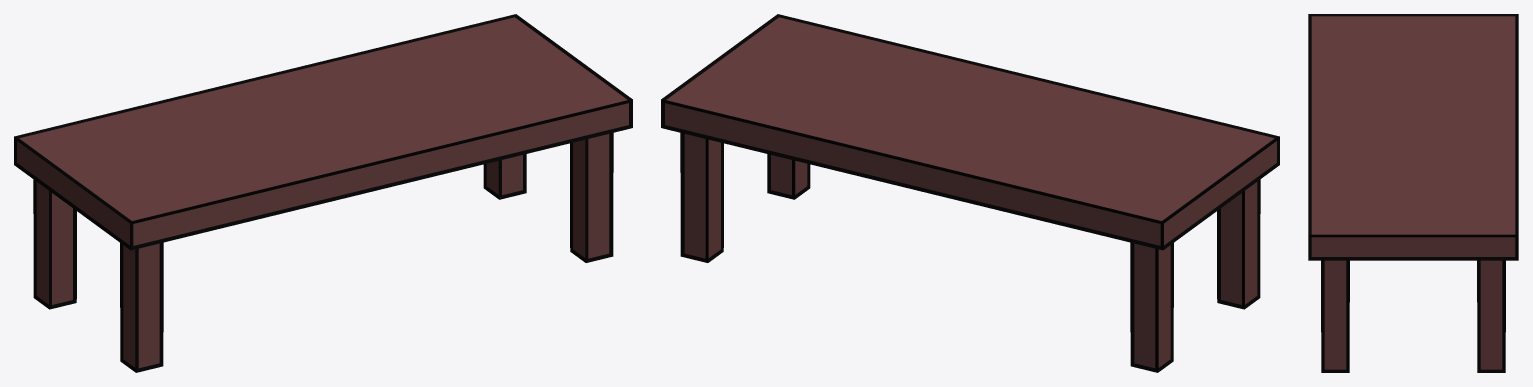
File: Dark_Brown_1.glb
The picture shows the model from 3 angles, left to right: view 1: azimuth 30°, elevation 25°; view 2: azimuth 150°, elevation 25°; view 3: azimuth 270°, elevation 25°; orthographic projection. The views are drawn at different scales.
Visible parts, largest first — view 1: Table; view 2: Table; view 3: Table.
Part boxes in pixels (x1=…): Table: x1=14, y1=14, x2=632, y2=372; Table: x1=661, y1=14, x2=1279, y2=372; Table: x1=1308, y1=14, x2=1518, y2=372.
Bounding box in the file's own units: 2.51 × 0.7615 × 1.01.
